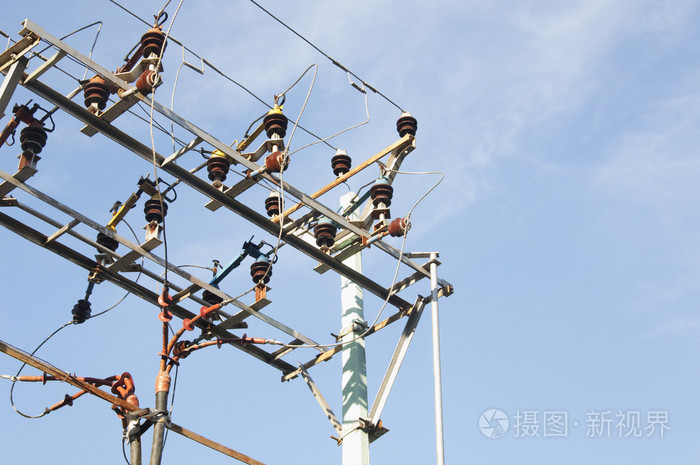insulator: (82, 81, 111, 109), (19, 127, 48, 154), (139, 32, 170, 57), (369, 182, 396, 208), (312, 223, 340, 246), (206, 158, 233, 181), (264, 116, 289, 139), (249, 262, 275, 284), (144, 199, 170, 221), (395, 118, 422, 136), (329, 155, 352, 176), (263, 198, 288, 216)
